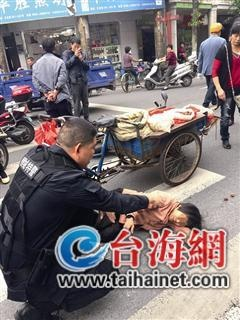falling: (96, 179, 196, 246)
